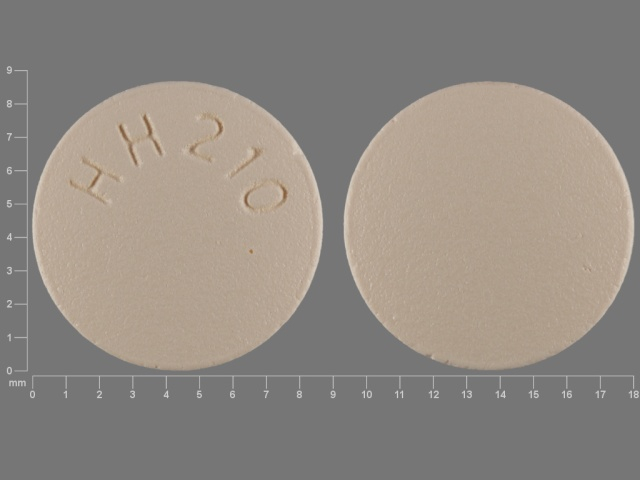0: (240, 175, 289, 216)
1: (228, 145, 260, 179)
2: (180, 111, 231, 167)
H: (65, 157, 124, 210), (116, 113, 165, 166)
